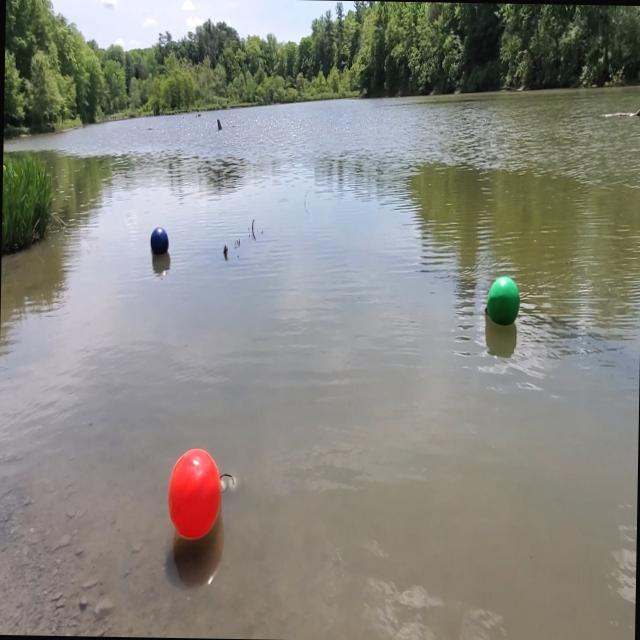buoy: (164, 442, 226, 550), (482, 270, 522, 326), (148, 225, 170, 258)
